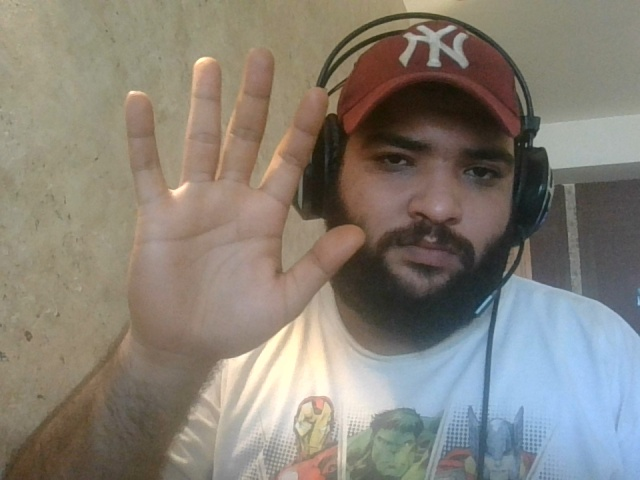hello: (102, 49, 367, 373)
